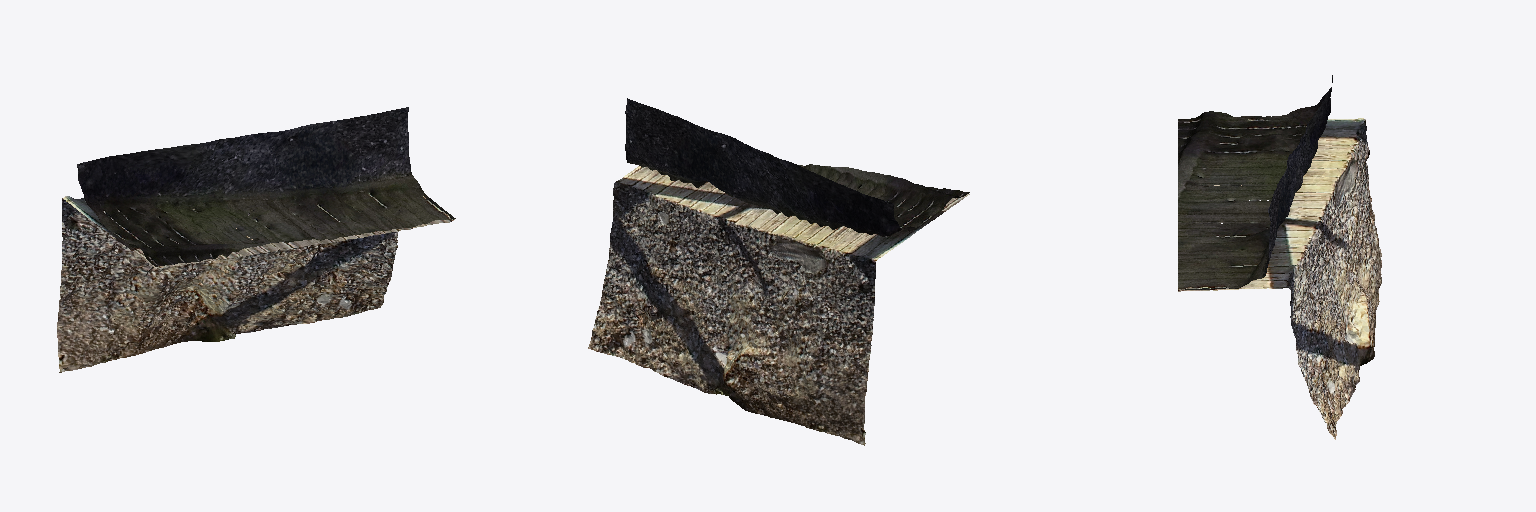
3 renders of one model, left to right at view 1: azimuth 30°, elevation 25°; view 2: azimuth 150°, elevation 25°; view 3: azimuth 270°, elevation 25°, orthographic.
Bounding box in the file's own units: 2.11 × 1.55 × 1.22.
Materials: 2 (1 with a texture image).